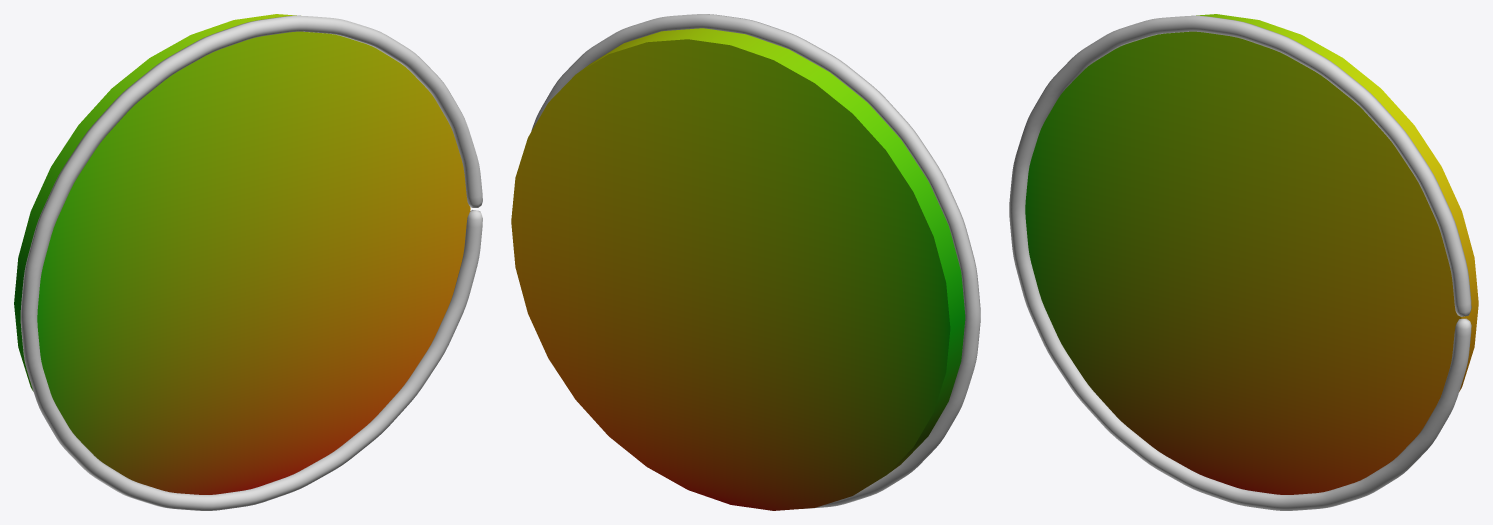
The model's file is souvenir_plate.glb.
3 views of the same model, side by side, from view 1: azimuth 30°, elevation 25°; view 2: azimuth 150°, elevation 25°; view 3: azimuth 330°, elevation 25° (orthographic).
Visible parts, largest first — view 1: souvenir_plate; view 2: souvenir_plate; view 3: souvenir_plate.
Boxes of the visible parts, box(x1,y1,x2,y2) form: souvenir_plate: box(14, 14, 482, 510); souvenir_plate: box(511, 14, 980, 510); souvenir_plate: box(1009, 14, 1478, 510).
Bounding box in the file's own units: 0.2305 × 0.2308 × 0.0197.
